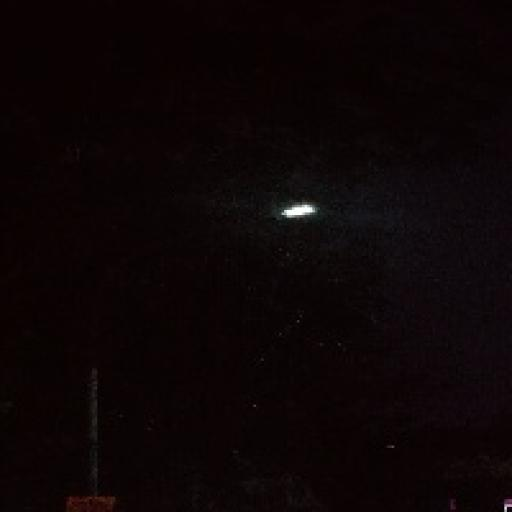Working: (265, 195, 324, 224)
